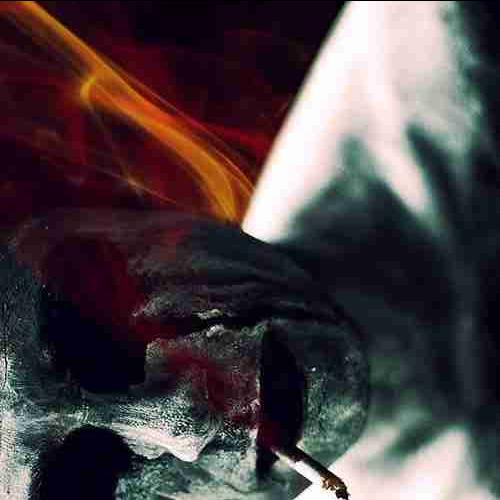Cigarette: (269, 432, 351, 499)
